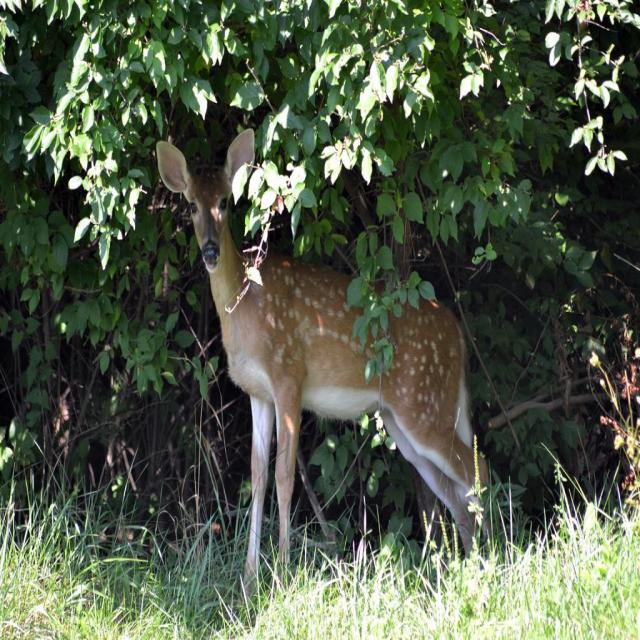Deer: (155, 126, 499, 613)
